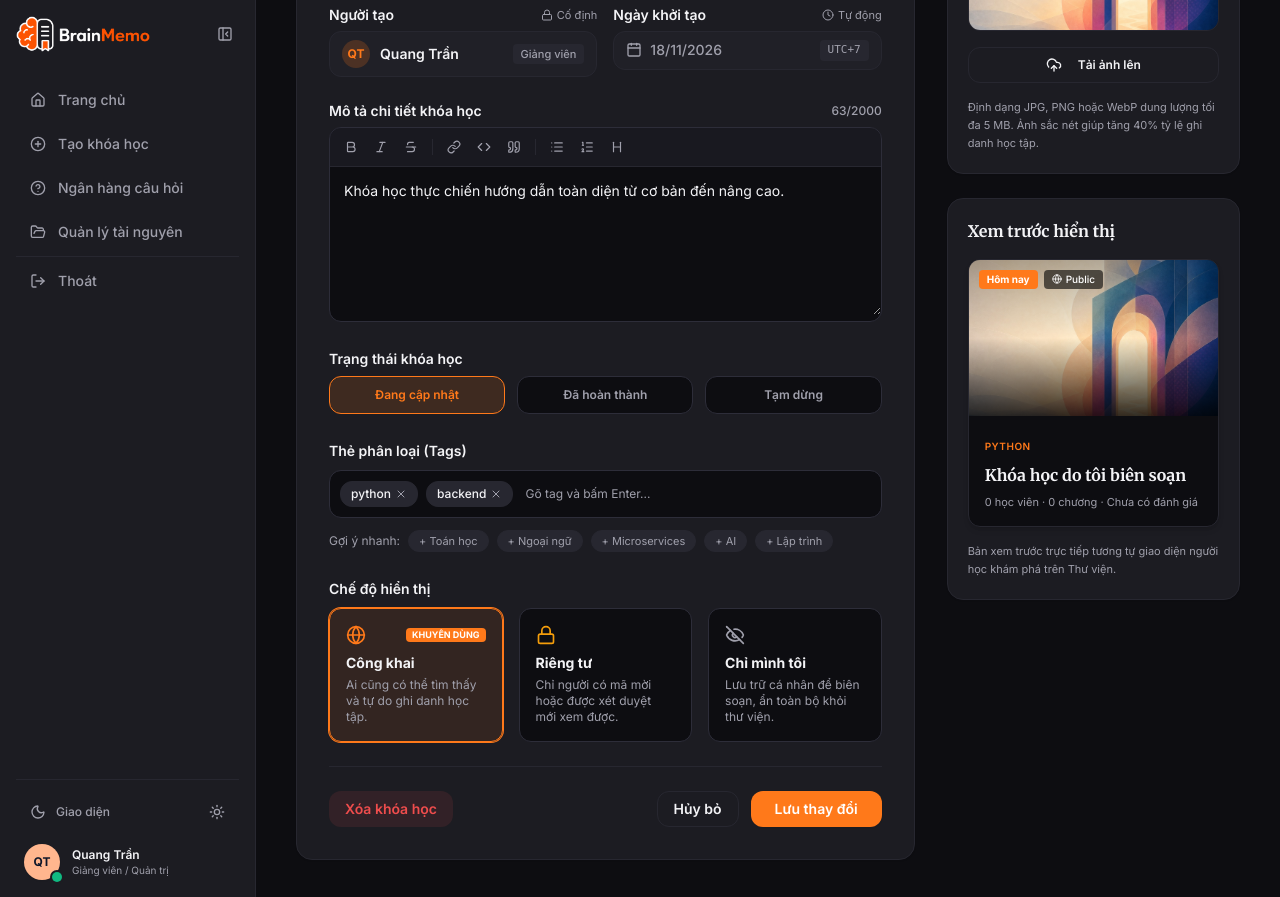
it: Course Pages (SCR-CRS-01..03) › SCR-CRS-02: Course Create & Edit Form (/courses/new, /courses/:courseId/edit) › renders edit mode with existing course data and delete modal
The image size is (1280, 897).
(page scrolled)
Click the button "Xóa khóa học" at coordinates (391, 809), box [329,791,453,827]
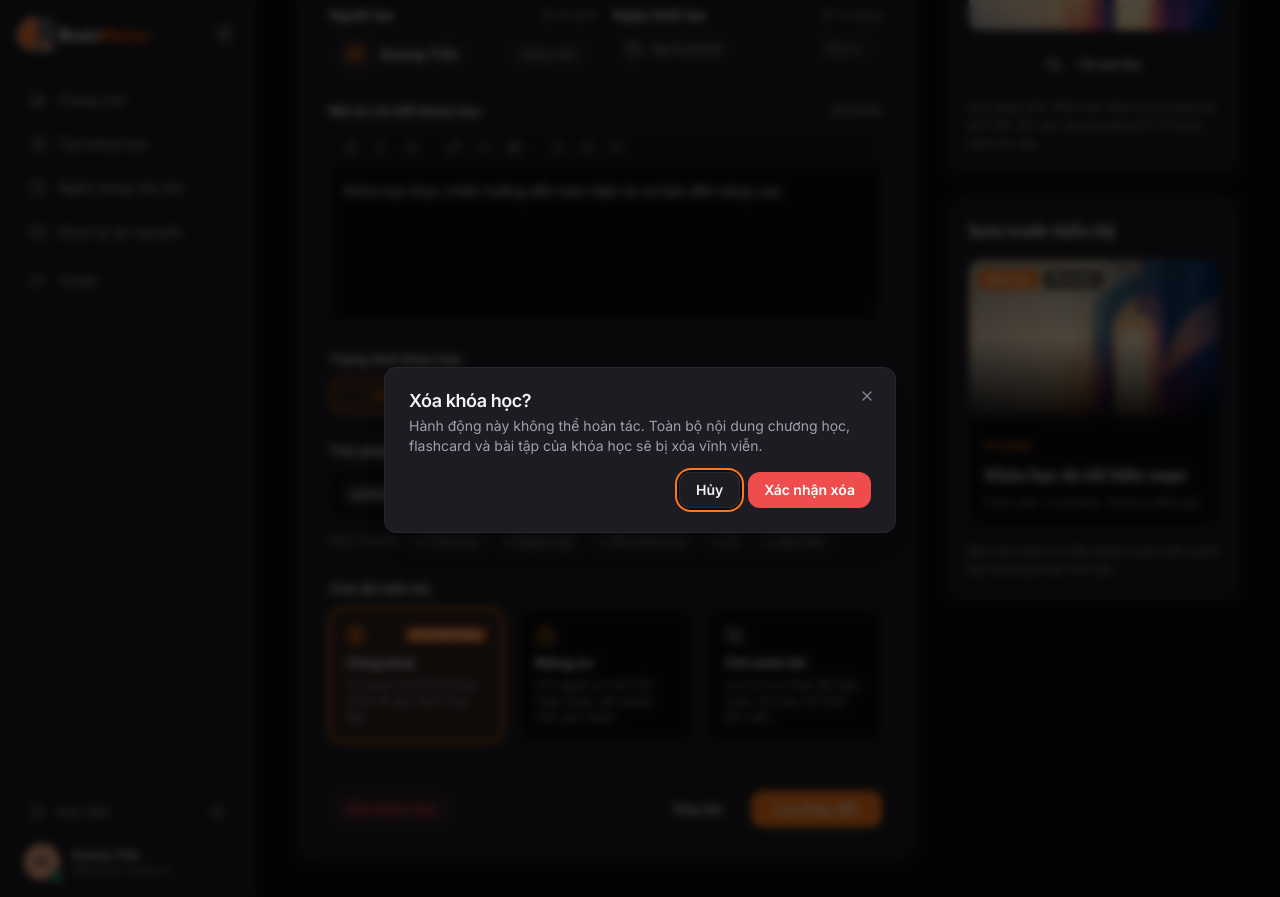
Result: the heading "Xóa khóa học?" is shown at [409,390,531,411]
Click the button "Xác nhận xóa" at coordinates (810, 490), box [748,472,871,508]
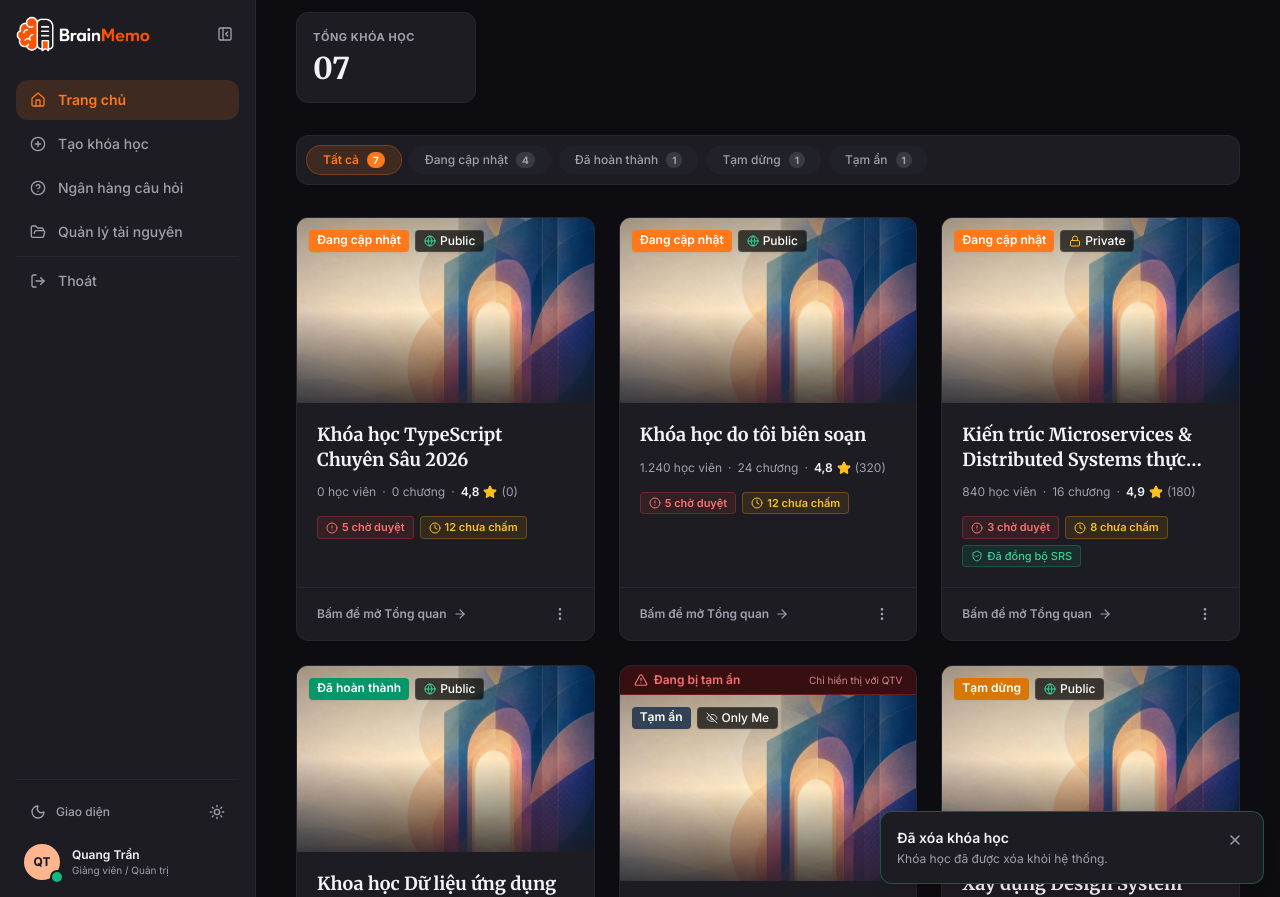
Result: the text "Đã xóa khóa học" is shown at [897,829,1009,846]
